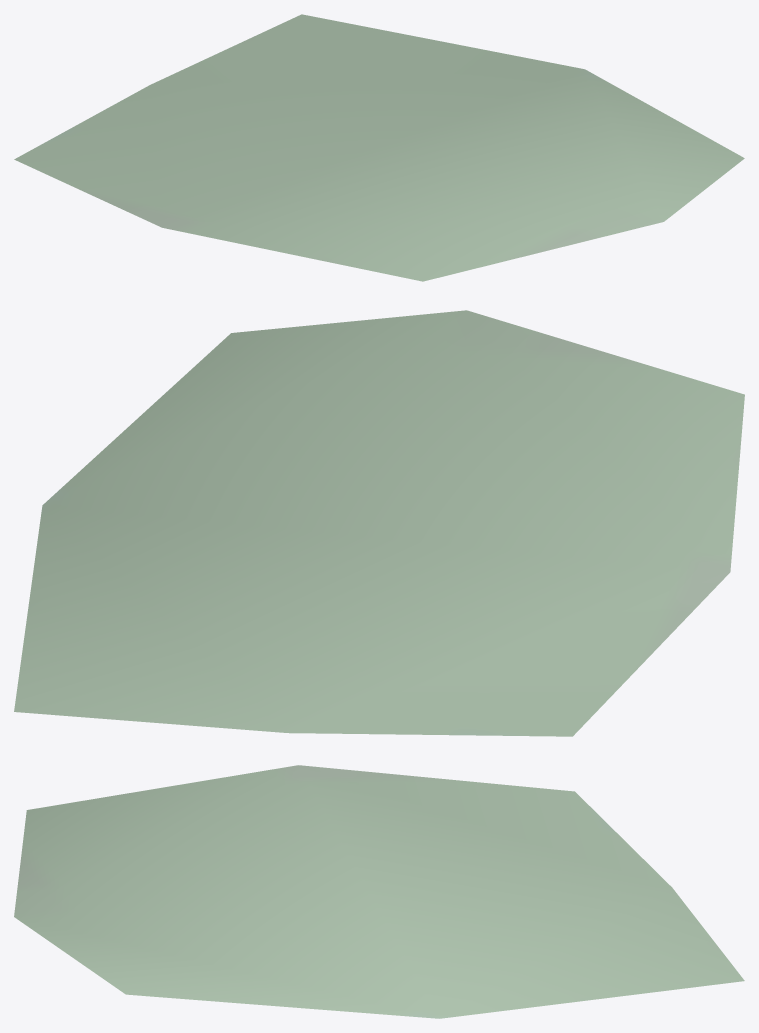
The model's file is TROLLHOLE02_HOLECAP19.fbx.
3 renders of one model, top to bottom at view 1: azimuth 30°, elevation 25°; view 2: azimuth 150°, elevation 25°; view 3: azimuth 270°, elevation 25°, orthographic. The views are drawn at different scales.
Visible parts, largest first — view 1: TROLLHOLE02_HOLECAP19; view 2: TROLLHOLE02_HOLECAP19; view 3: TROLLHOLE02_HOLECAP19.
Part boxes in pixels (x1,y1,x2,y2): TROLLHOLE02_HOLECAP19: [14, 14, 744, 281]; TROLLHOLE02_HOLECAP19: [14, 310, 744, 736]; TROLLHOLE02_HOLECAP19: [14, 765, 744, 1018].
Size of the model in its own units: 26107 by 3065 by 32814.
1 material, 1 textured.
